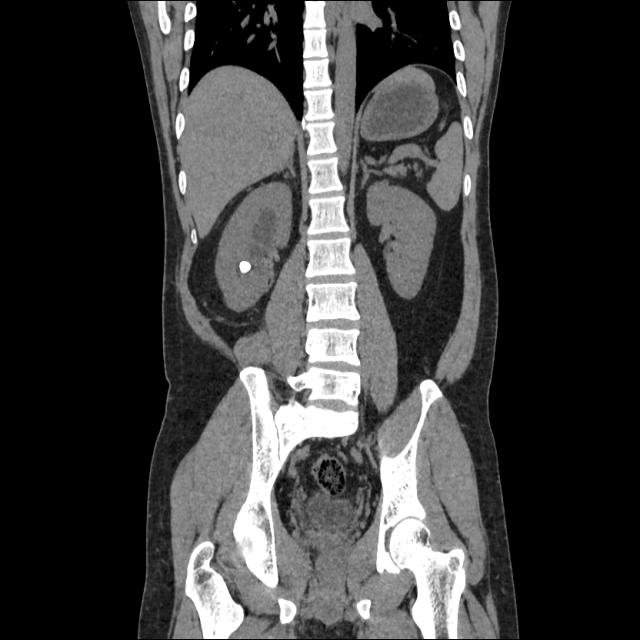kidney: (222, 188, 288, 308), (374, 188, 428, 295)
stone: (241, 261, 251, 273)
